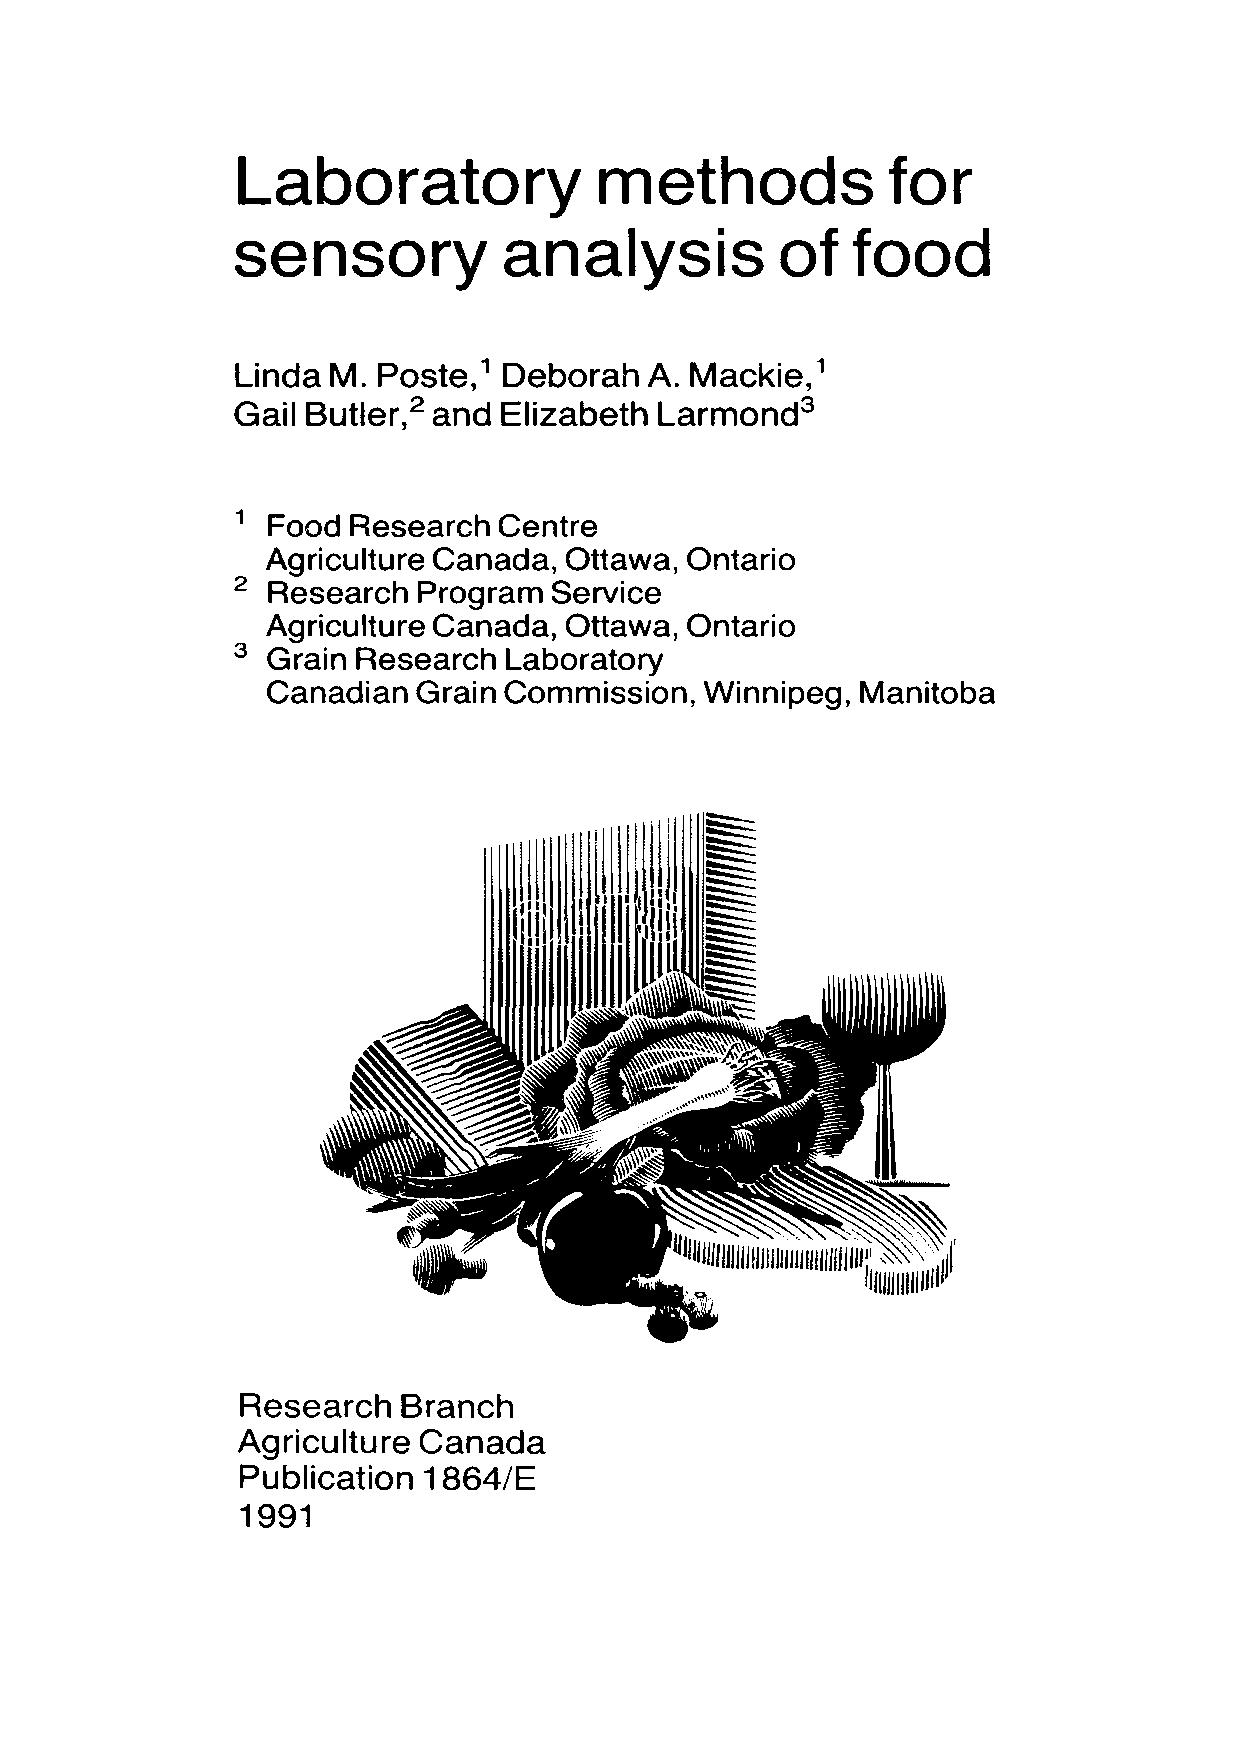author: (231, 356, 829, 432)
title: (229, 149, 994, 295)
